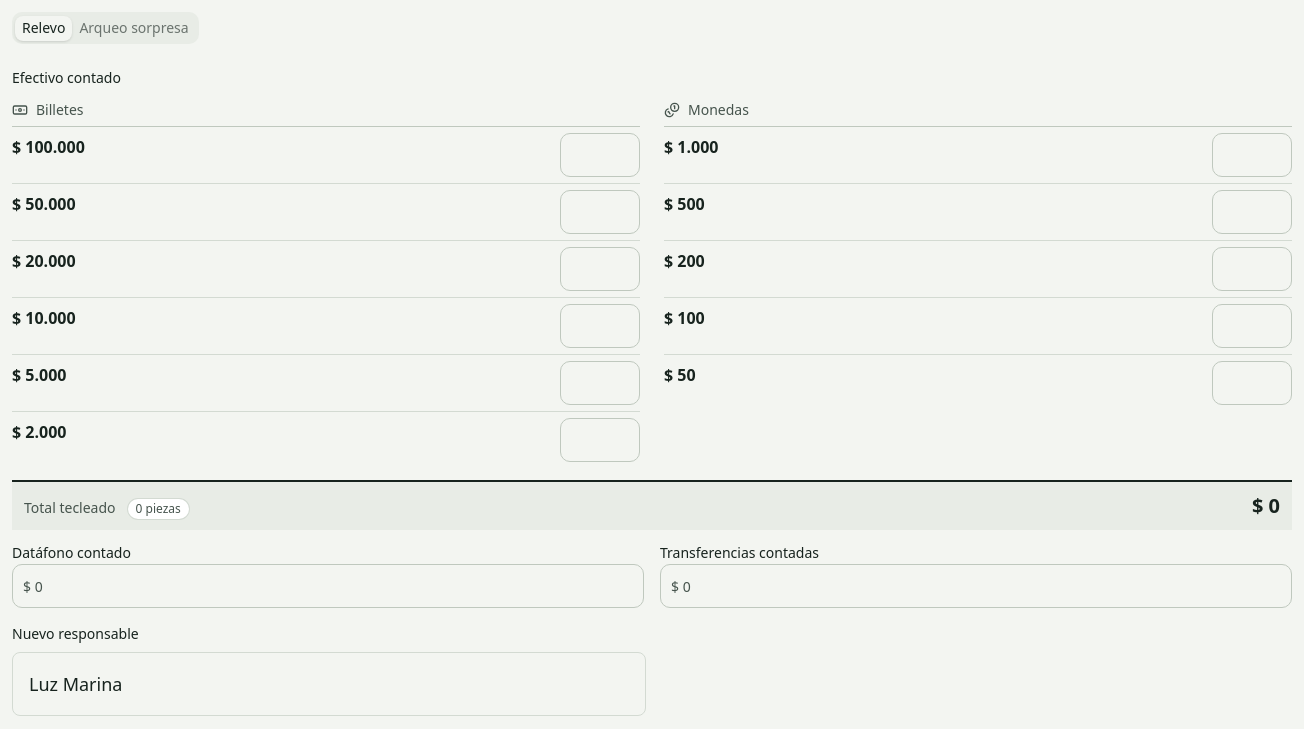
Test: HandoverPanel — quien recibe confirma con su PIN › si la tablet no puede pasar a su nombre, le pide que se identifique
Click the radio button labelled "Luz Marina".
click(76, 684)  # box [12,652,646,716]
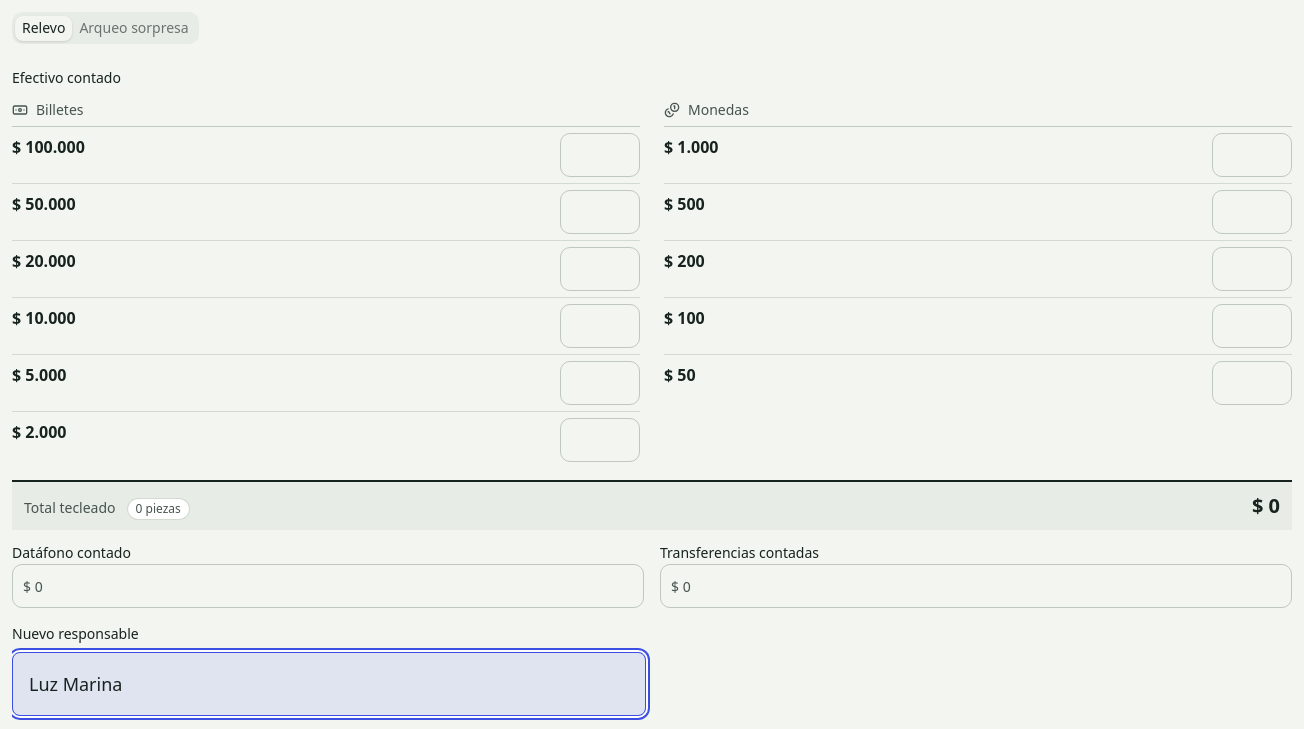
Type keys "2468"
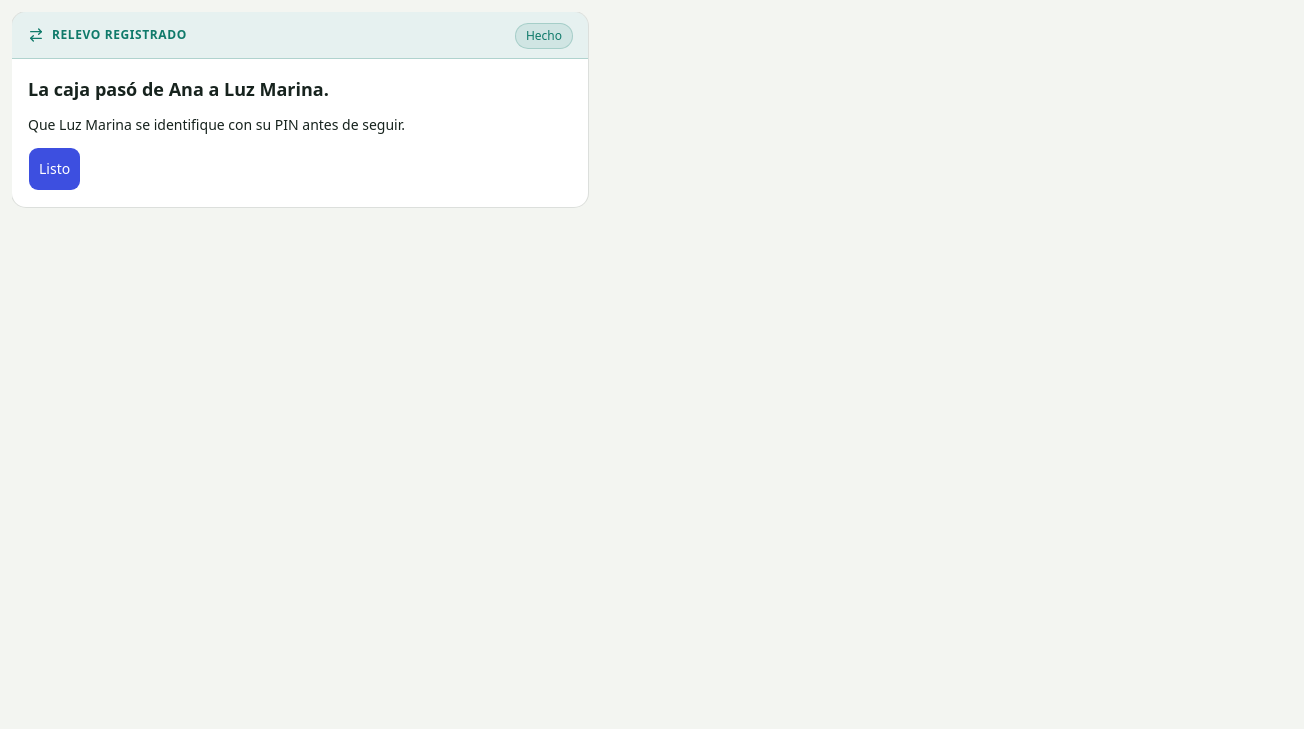
Expected: the text "Que Luz Marina se identifique con su PIN antes de seguir." is shown, [28,115,405,134]
